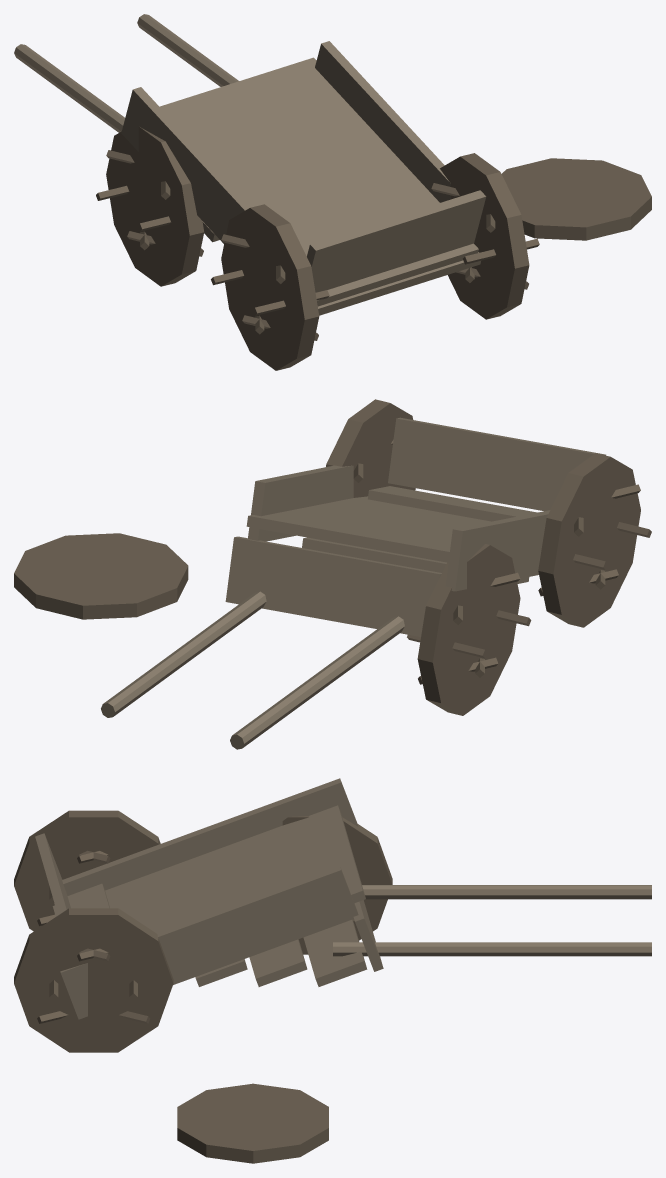
File: panje_wagon_wrecked.glb
3 views of the same model, one above another, from view 1: azimuth 30°, elevation 25°; view 2: azimuth 150°, elevation 25°; view 3: azimuth 270°, elevation 25° (orthographic). The views are drawn at different scales.
Parts seen in each view (by area): view 1: panje_wagon_wrecked; view 2: panje_wagon_wrecked; view 3: panje_wagon_wrecked.
Part boxes in pixels (box(x1,y1,x2,y2)): panje_wagon_wrecked: box(14, 14, 651, 370); panje_wagon_wrecked: box(14, 399, 651, 749); panje_wagon_wrecked: box(14, 778, 651, 1163).
Size of the model in its own units: 2.71 by 0.9415 by 3.2.
